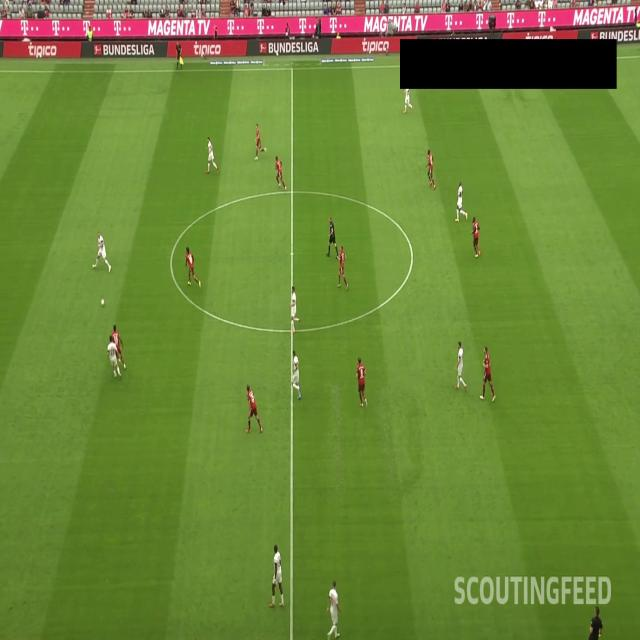ball: (98, 291, 108, 311)
player: (269, 542, 287, 610), (324, 576, 343, 640), (180, 243, 202, 293), (244, 379, 264, 434), (479, 341, 497, 401), (90, 226, 111, 273), (110, 324, 127, 374), (454, 334, 468, 394), (289, 347, 304, 402), (287, 280, 302, 334), (452, 176, 469, 223), (106, 335, 122, 380), (356, 351, 368, 411), (252, 122, 269, 162), (468, 214, 482, 259), (336, 241, 348, 293), (424, 143, 436, 194), (206, 134, 220, 176), (273, 152, 287, 193), (403, 84, 413, 118)
referee: (584, 601, 606, 640), (324, 212, 340, 262), (172, 37, 184, 72)
